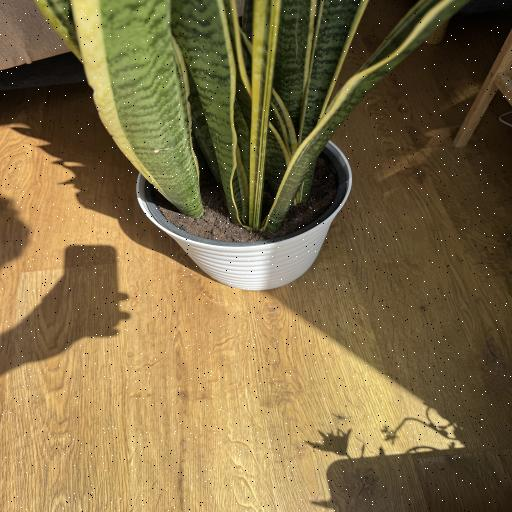Plant Pot: (133, 132, 354, 290)
